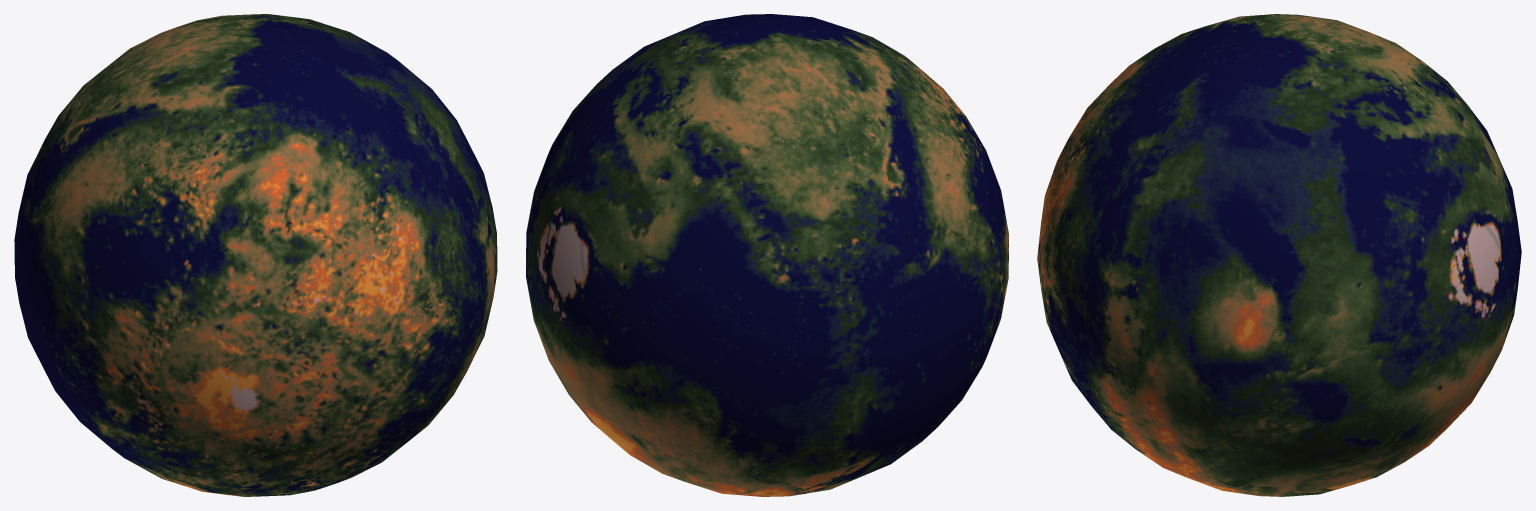
The model's file is red_planet.fbx.
3 renders of one model, left to right at view 1: azimuth 30°, elevation 25°; view 2: azimuth 150°, elevation 25°; view 3: azimuth 270°, elevation 25°, orthographic.
Visible parts, largest first — view 1: Atmosphere; view 2: Atmosphere; view 3: Atmosphere.
Boxes of the visible parts, x1,y1,x2,y2 form: Atmosphere: (14, 14, 497, 496); Atmosphere: (526, 14, 1008, 496); Atmosphere: (1037, 14, 1521, 496).
Bounding box in the file's own units: 677 × 679 × 677.
1 material, 1 textured.
